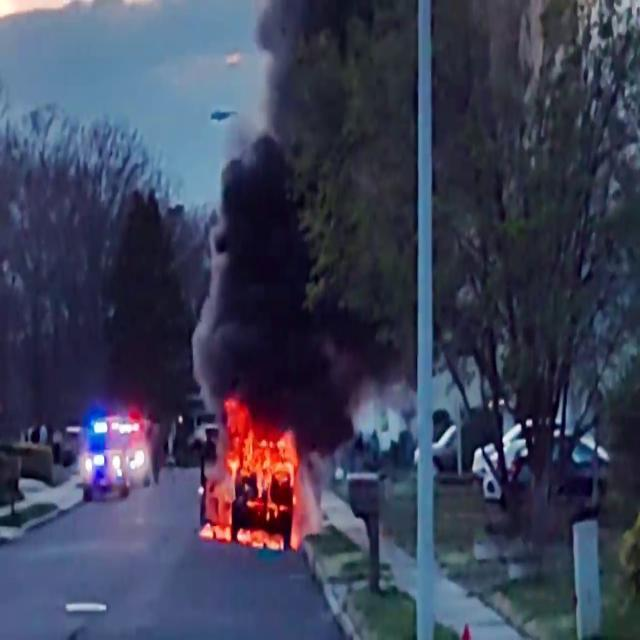Fire: (207, 394, 305, 548)
Smoke: (181, 2, 390, 414)
